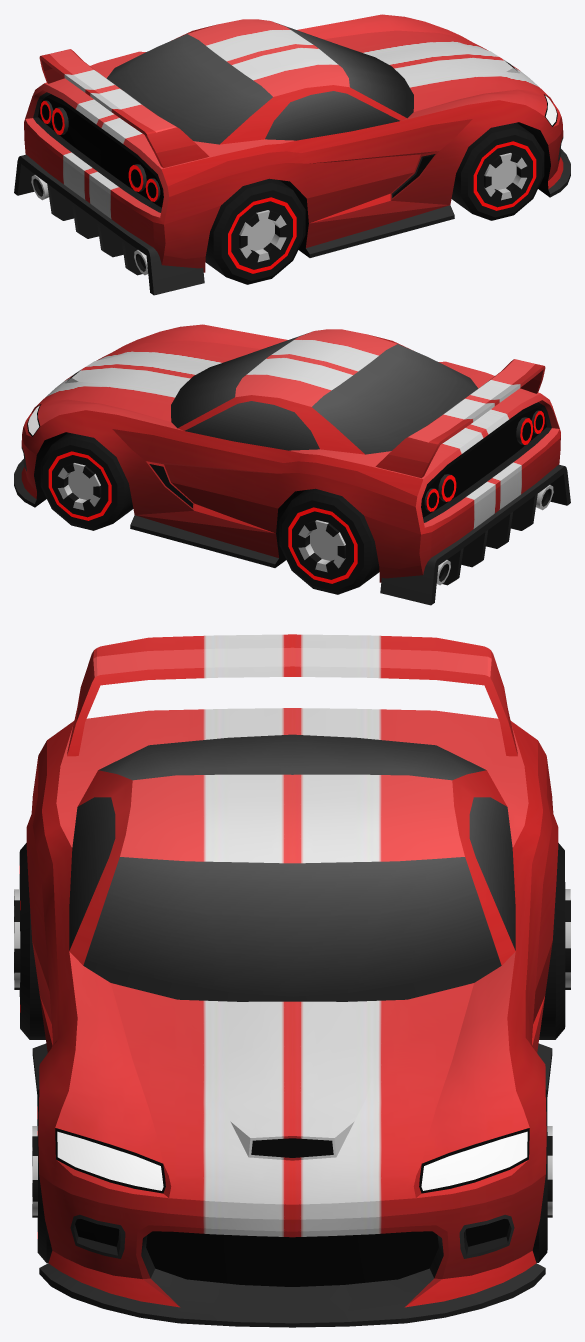
Rendered from RaceCar_100.glb.
The picture shows the model from 3 angles, top to bottom: view 1: azimuth 30°, elevation 25°; view 2: azimuth 150°, elevation 25°; view 3: azimuth 270°, elevation 25°; orthographic projection. The views are drawn at different scales.
Visible parts, largest first — view 1: RaceCar_100, wheel_3_RaceCar_100_Wheel_2R, wheel_1_RaceCar_100_Wheel_1R; view 2: RaceCar_100, wheel_2_RaceCar_100_Wheel_2L, wheel_0_RaceCar_100_Wheel_1L; view 3: RaceCar_100, wheel_3_RaceCar_100_Wheel_2R, wheel_2_RaceCar_100_Wheel_2L, wheel_1_RaceCar_100_Wheel_1R, wheel_0_RaceCar_100_Wheel_1L.
Boxes of the visible parts, left/top/right/bottom form: RaceCar_100: left=14, top=14, right=570, bottom=295; wheel_3_RaceCar_100_Wheel_2R: left=205, top=178, right=305, bottom=284; wheel_1_RaceCar_100_Wheel_1R: left=451, top=122, right=544, bottom=220; RaceCar_100: left=14, top=324, right=570, bottom=605; wheel_2_RaceCar_100_Wheel_2L: left=279, top=488, right=379, bottom=594; wheel_0_RaceCar_100_Wheel_1L: left=40, top=432, right=133, bottom=530; RaceCar_100: left=26, top=634, right=558, bottom=1327; wheel_3_RaceCar_100_Wheel_2R: left=14, top=843, right=45, bottom=1039; wheel_2_RaceCar_100_Wheel_2L: left=539, top=843, right=570, bottom=1039; wheel_1_RaceCar_100_Wheel_1R: left=32, top=1089, right=52, bottom=1263; wheel_0_RaceCar_100_Wheel_1L: left=532, top=1089, right=552, bottom=1262.
Bounding box in the file's own units: 3.49 × 1.19 × 1.98.
2 materials, 2 textured.
